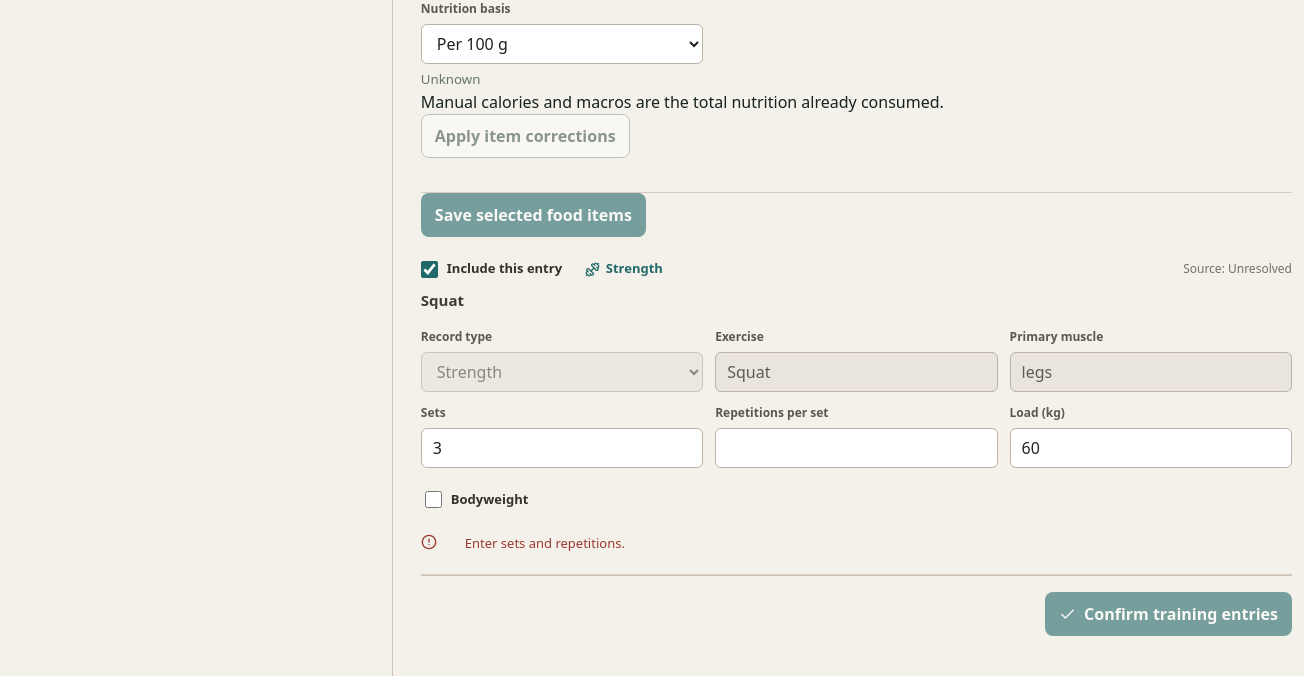
Test: local training edits across food commands with the real draft hook › revalidates merged training when the server changed a different field
(page scrolled)
Step 1. Type "8" into the number field labelled "Repetitions per set" → (856, 448), box [715,428,998,468]
(page scrolled)
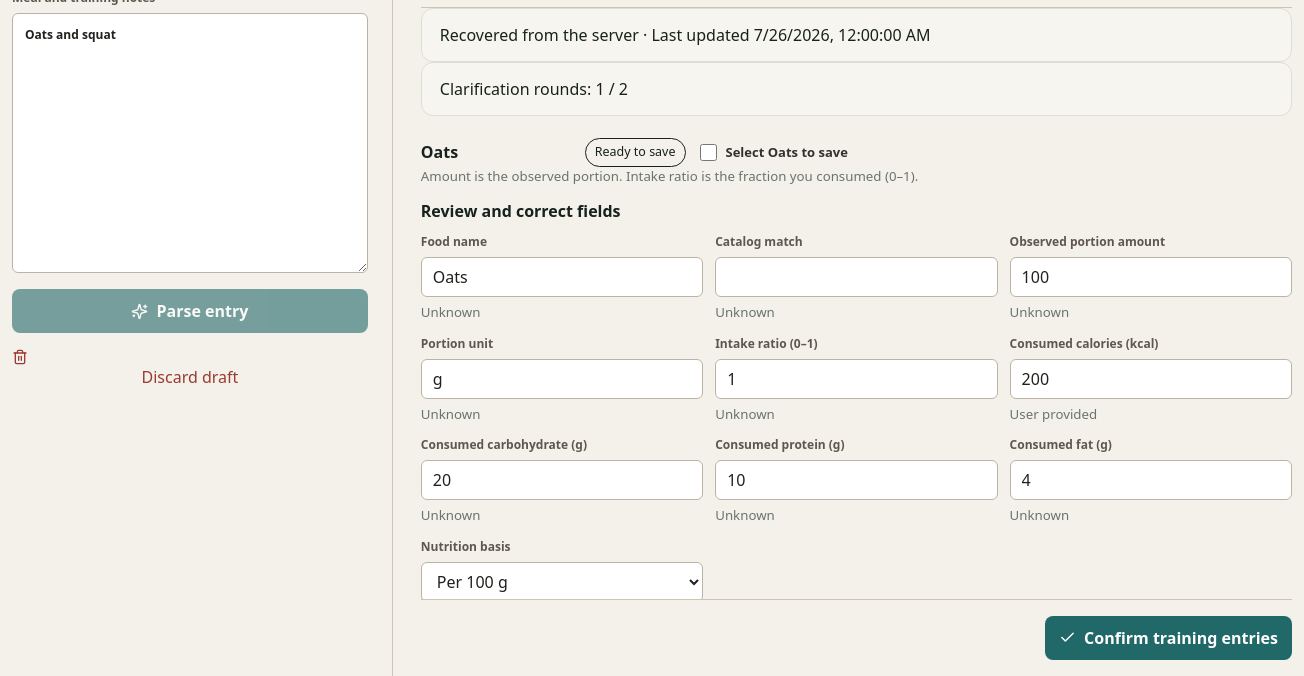
Step 2. Replace the text in the number field labelled "Observed portion amount" with "50" → (1151, 277), box [1010,257,1292,297]
(page scrolled)
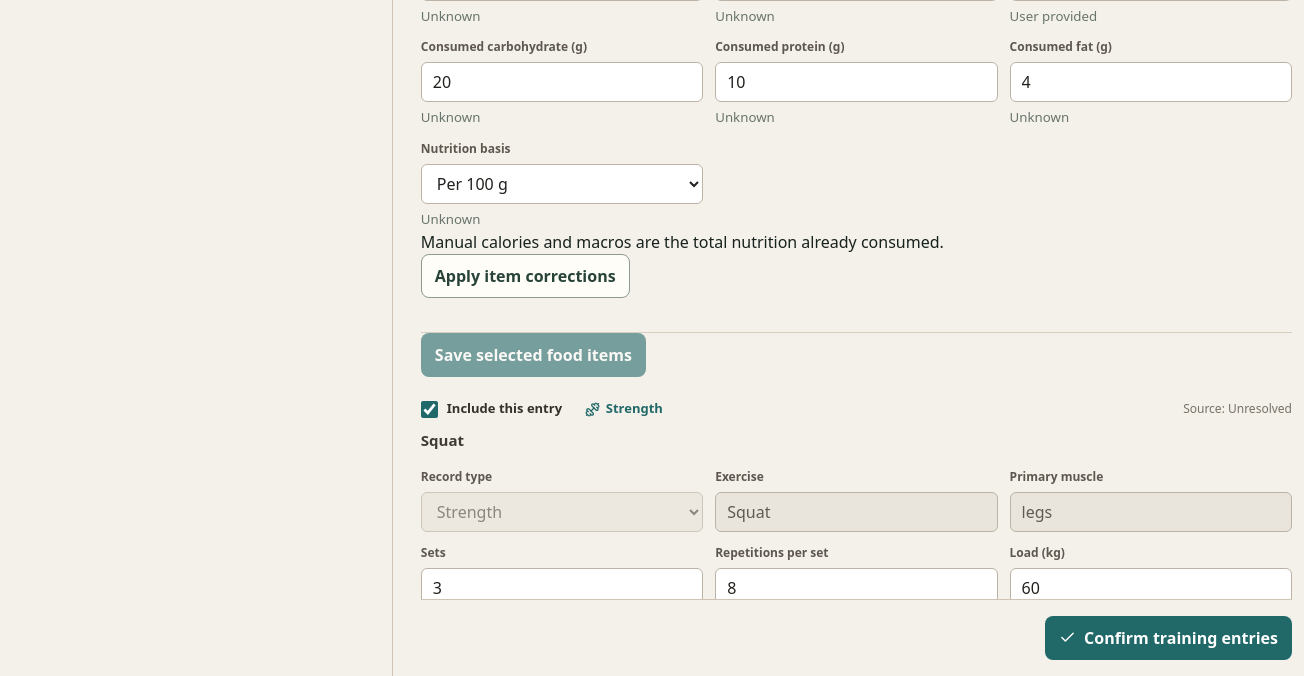
Step 3. Click the button "Apply item corrections" → (525, 276), box [421,254,630,298]
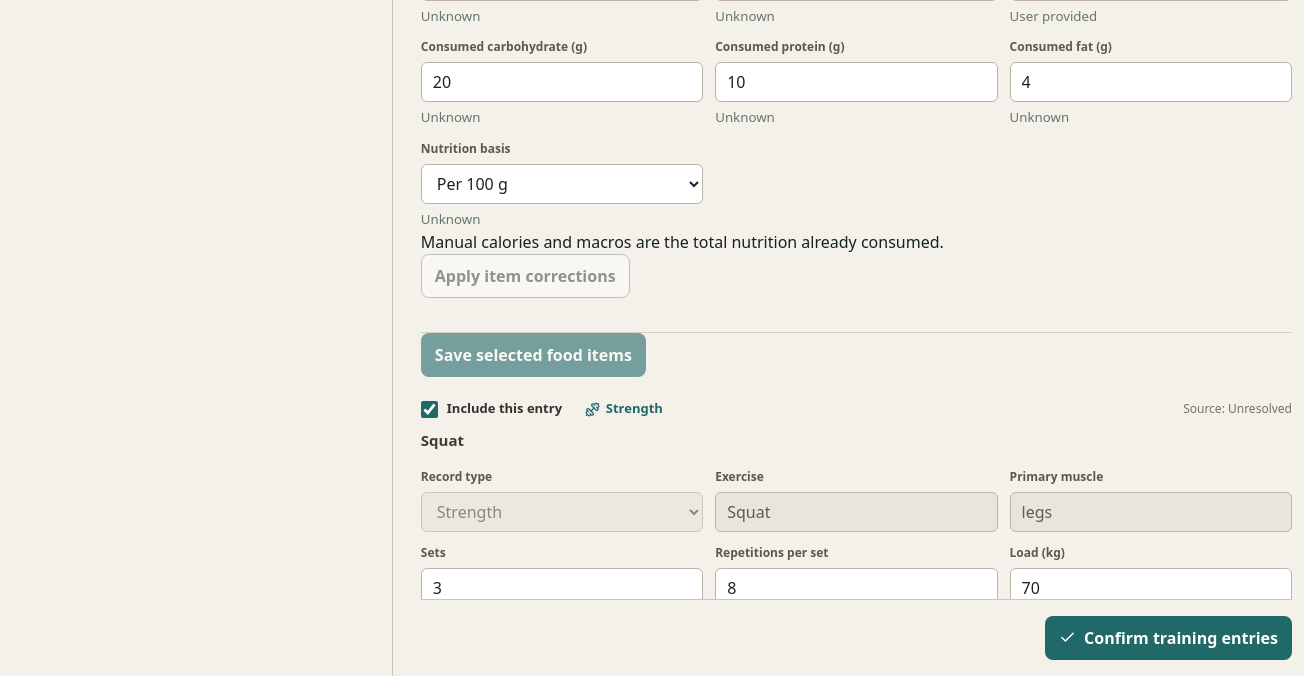
Check: the message "Enter sets and repetitions." is not shown
Check: the button "Confirm training entries" is enabled, box [1045,616,1292,660]
Check: the number field labelled "Load (kg)" holds "70", box [1010,568,1292,608]
